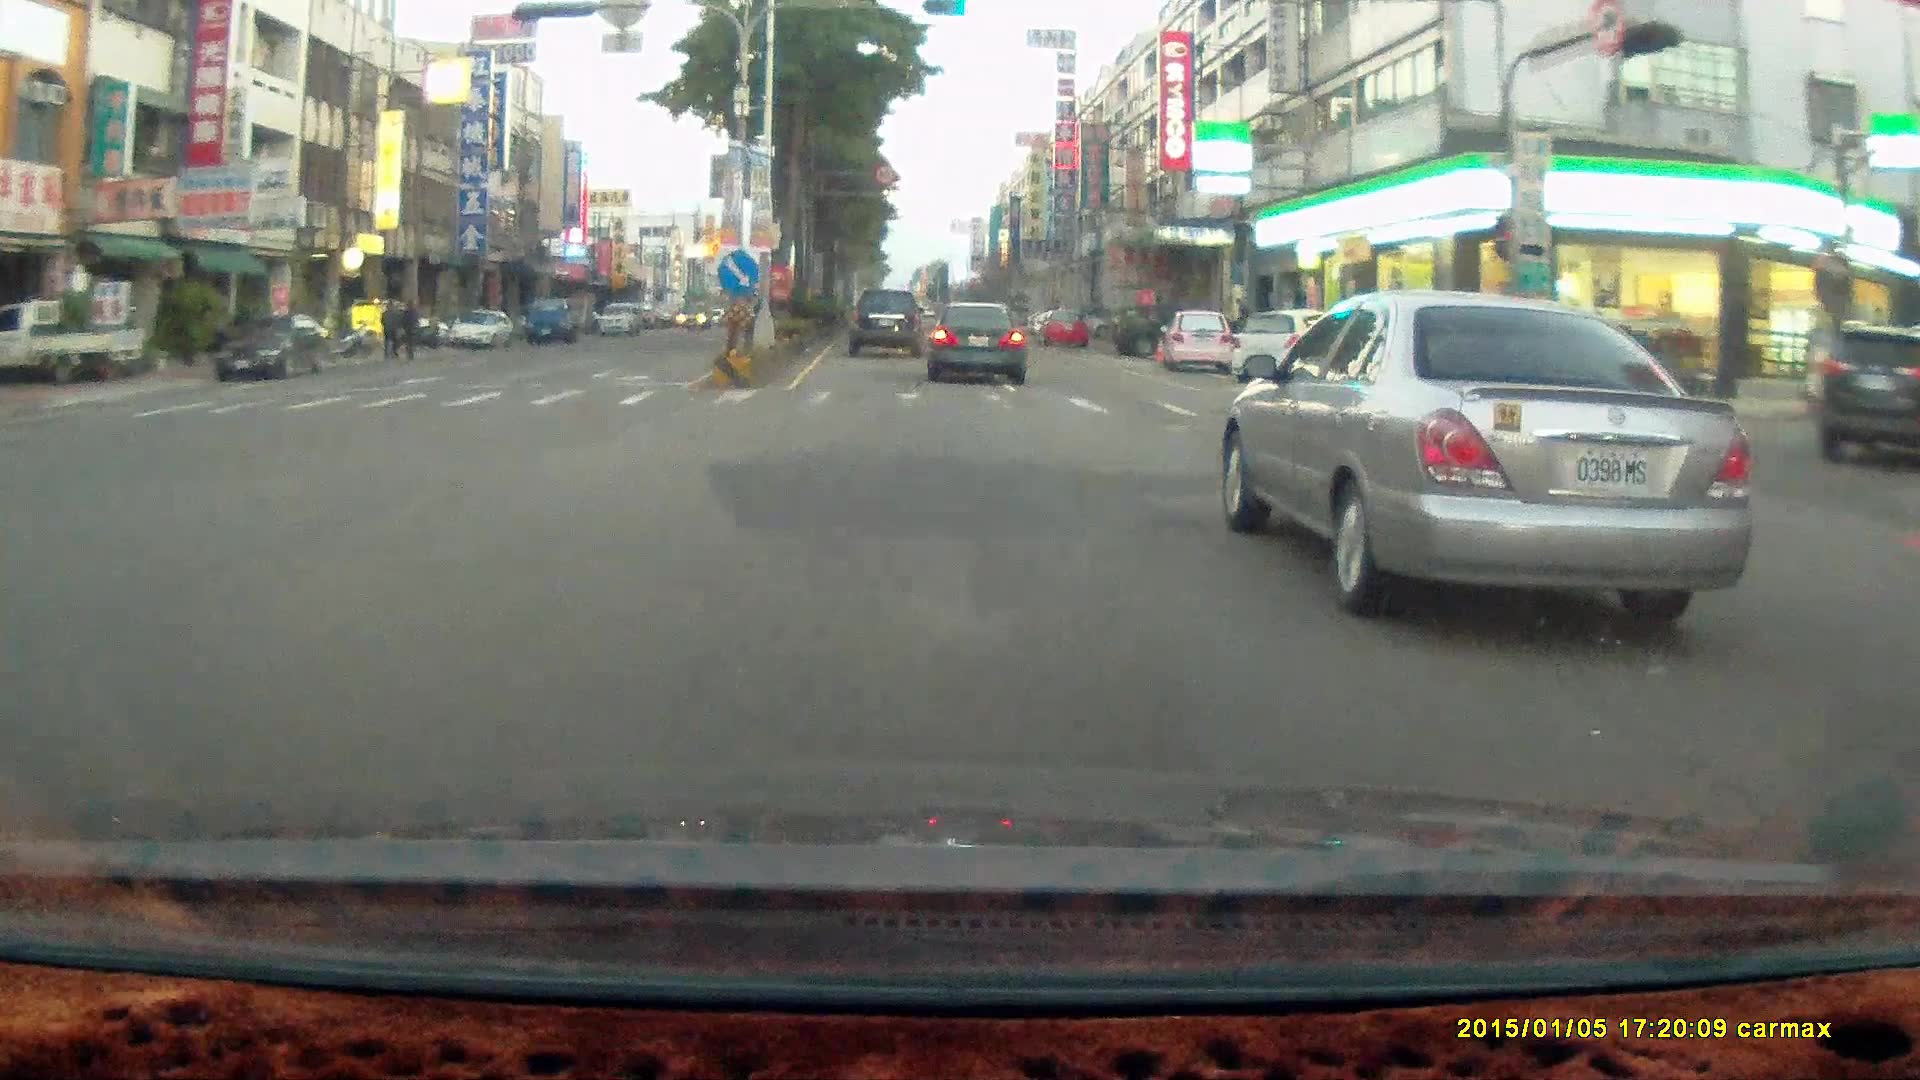pedestrian: (396, 288, 424, 355), (377, 294, 401, 359), (398, 296, 421, 363), (377, 292, 397, 357)
vehicle: (1227, 286, 1759, 626), (1817, 318, 1920, 466), (1315, 303, 1463, 403), (0, 298, 143, 382), (8, 300, 147, 386), (1230, 304, 1356, 382), (928, 299, 1025, 383), (213, 310, 330, 379), (929, 299, 1029, 379), (213, 310, 329, 376), (847, 287, 927, 360), (845, 288, 922, 358), (1160, 308, 1239, 375), (1158, 307, 1234, 370), (1110, 300, 1190, 355), (449, 308, 517, 352), (524, 294, 584, 340), (446, 305, 512, 345), (524, 292, 574, 340), (1037, 303, 1086, 343), (597, 298, 641, 333)
